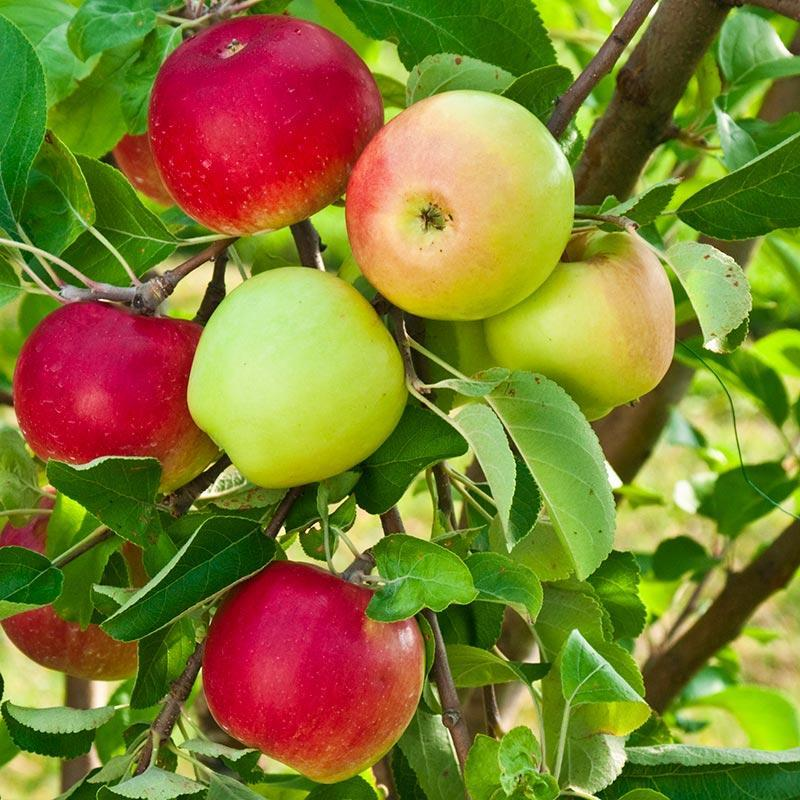apple: (339, 84, 571, 328), (142, 14, 383, 239), (196, 559, 429, 782), (187, 265, 408, 491), (13, 298, 227, 504), (479, 219, 677, 418)
